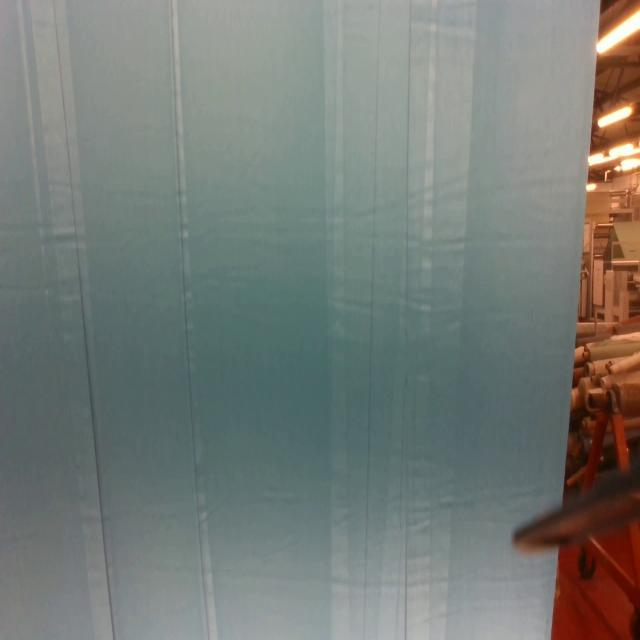crease: (322, 0, 460, 638), (30, 0, 116, 637), (170, 0, 218, 640)
